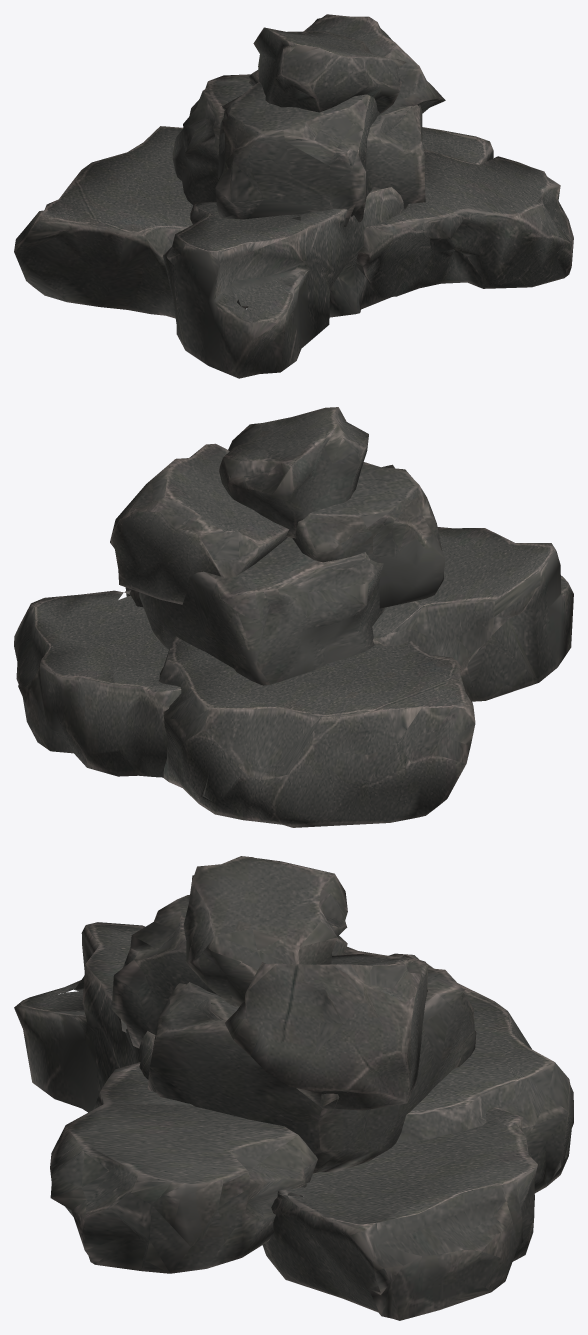
File: cliff_dark_mass.gltf
3 views of the same model, one above another, from view 1: azimuth 30°, elevation 25°; view 2: azimuth 150°, elevation 25°; view 3: azimuth 270°, elevation 25° (orthographic). The views are drawn at different scales.
Parts seen in each view (by area): view 1: cliff_dark_mass; view 2: cliff_dark_mass; view 3: cliff_dark_mass.
Part boxes in pixels (x1,y1,x2,y2): cliff_dark_mass: (14, 14, 573, 378); cliff_dark_mass: (14, 407, 573, 827); cliff_dark_mass: (14, 856, 573, 1320).
Size of the model in its own units: 2.46 by 1.41 by 2.18.
Materials: 1 (1 with a texture image).
